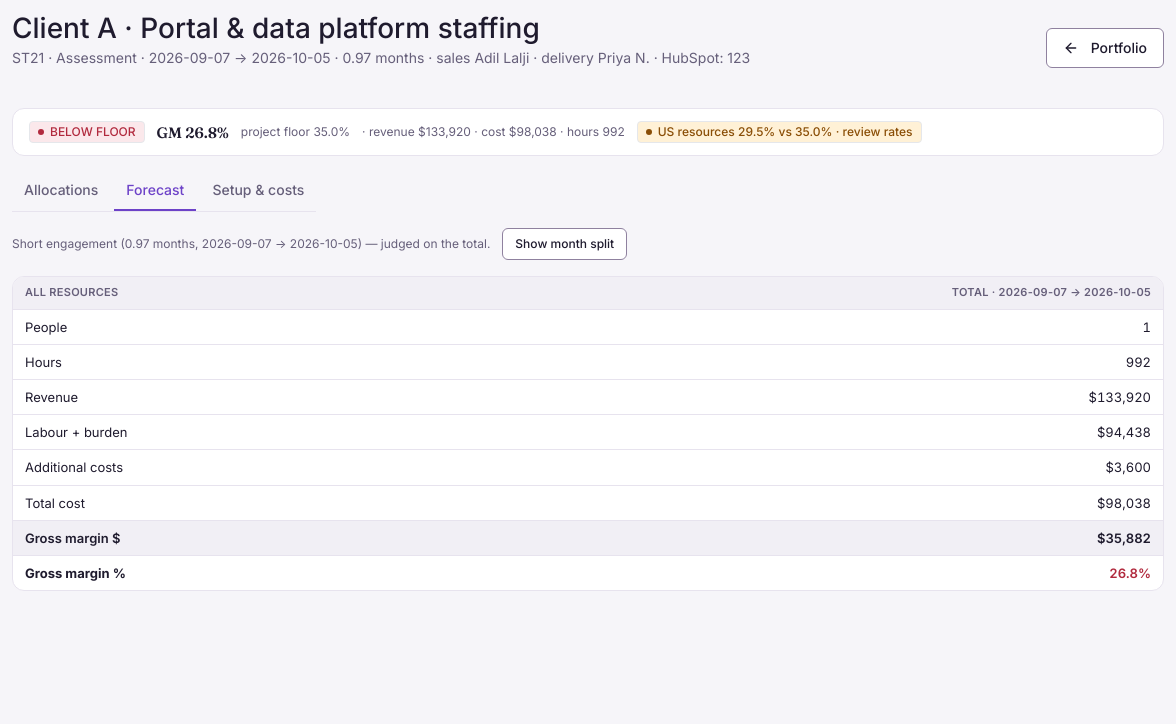
Test: S22 P4 · click-through fixes › P4-2 · a short engagement shows the whole-term summary first and the month split behind a button
expect the text with test id "monthly-required" reads "Short engagement (0.97 months, 2026-09-07 → 2026-10-05) — judged on the total.": met, box [12, 236, 490, 251]
expect the column heading "Total · 2026-09-07 → 2026-10-05" is shown: met, box [429, 277, 1163, 309]
Click the button "Show month split" at [565, 244], box [502, 228, 627, 260]
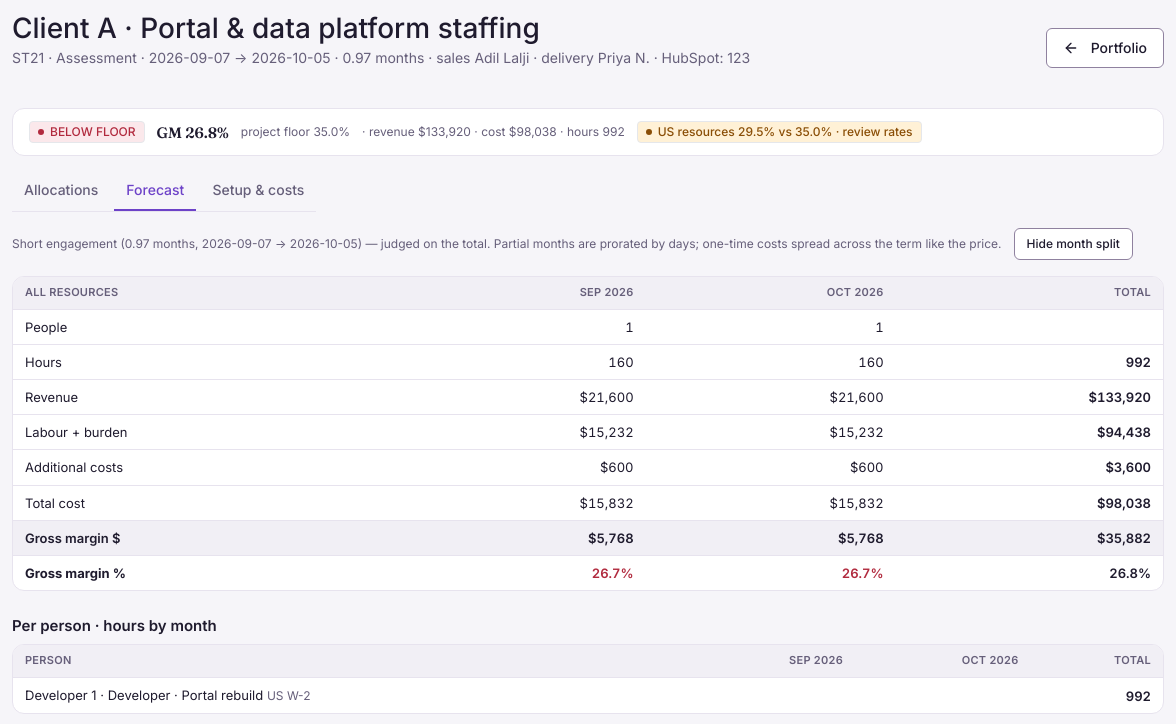
expect the table named "All resources by month" is shown: met, box [13, 277, 1163, 590]
expect the element with test id "term-summary" is gone: met
expect the heading with test id "per-person-heading" reads "Per person · hours by month": met, box [12, 616, 217, 635]
Click the button "Hide month split" at [1073, 244], box [1014, 228, 1133, 260]
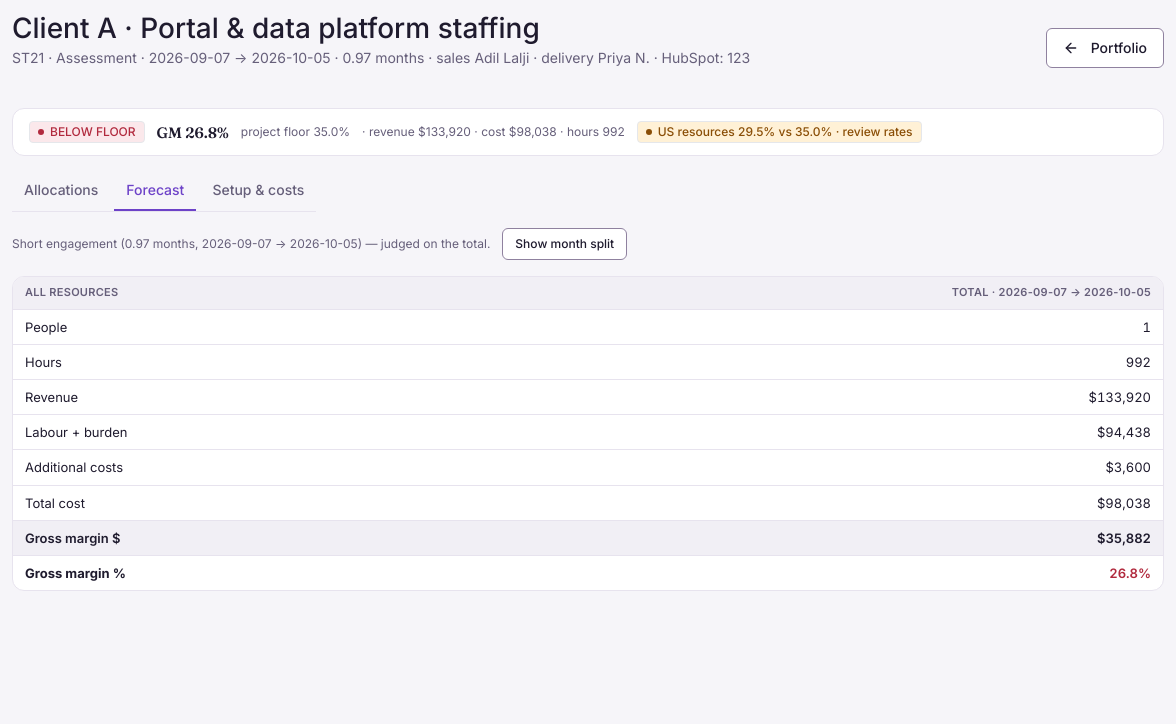
expect the element with test id "term-summary" is shown: met, box [12, 276, 1164, 591]
